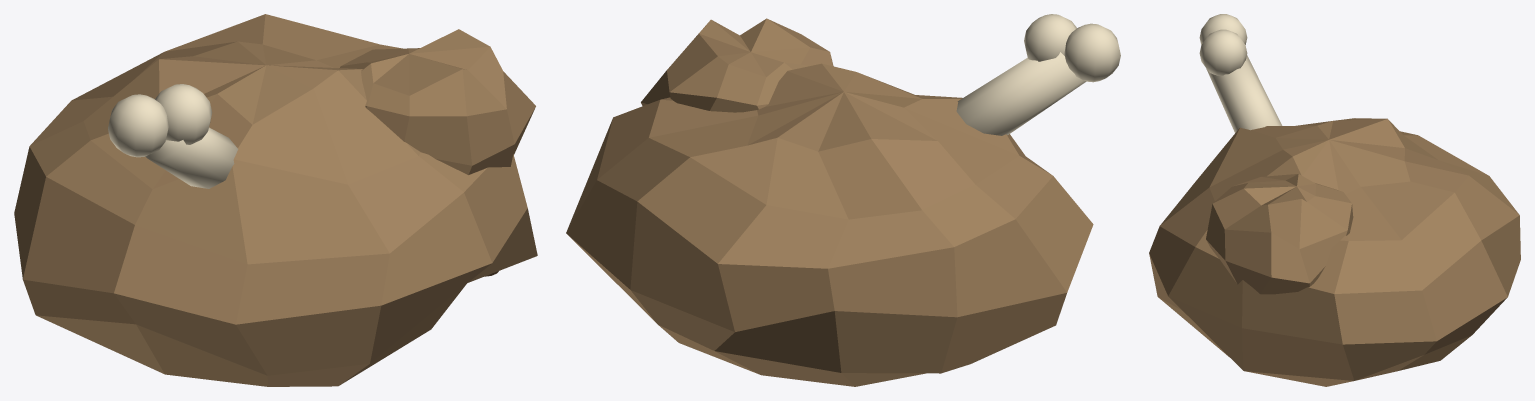
The model's file is fossil-unknown.glb.
The picture shows the model from 3 angles, left to right: view 1: azimuth 30°, elevation 25°; view 2: azimuth 150°, elevation 25°; view 3: azimuth 270°, elevation 25°; orthographic projection. The views are drawn at different scales.
Visible parts, largest first — view 1: fossil; view 2: fossil; view 3: fossil.
Boxes of the visible parts, box(x1,y1,x2,y2) form: fossil: box(14, 14, 537, 386); fossil: box(566, 14, 1120, 386); fossil: box(1149, 14, 1520, 386).
Bounding box in the file's own units: 0.2604 × 0.1648 × 0.2242.
